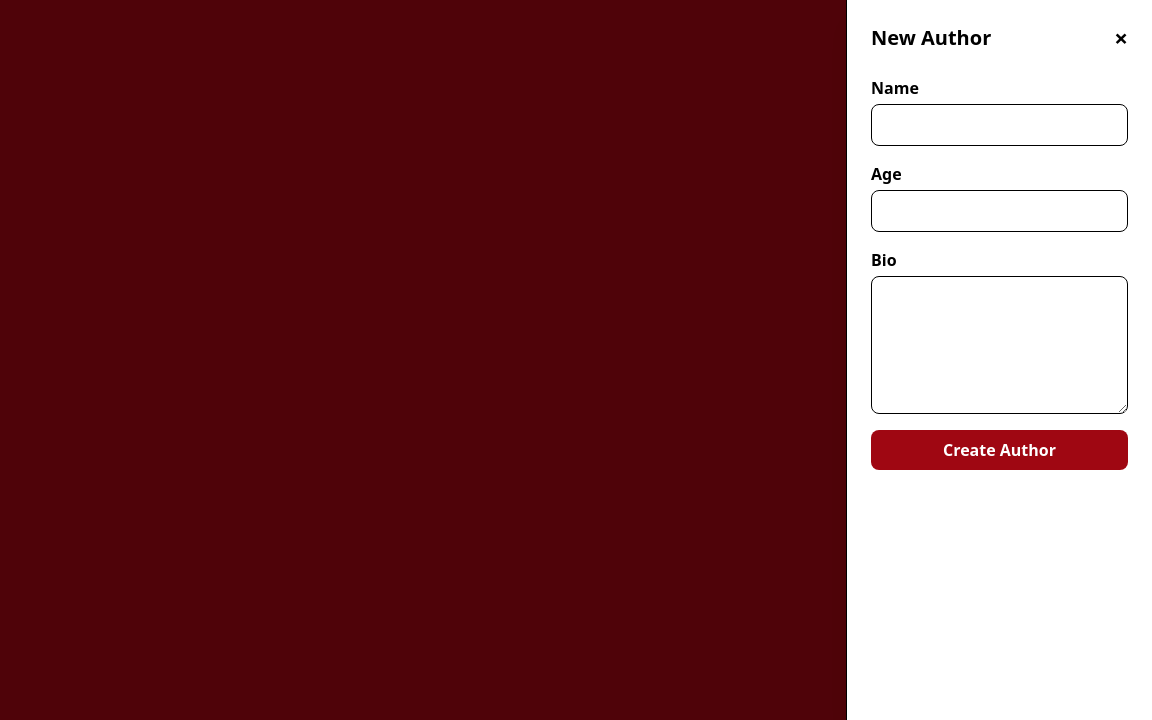
Test: AuthorSlideout › submitting › shows the error and stays open when the action fails
Type "Octavia Butler" into the field labelled "Name" at x=1000, y=125, box [871,104,1128,146]
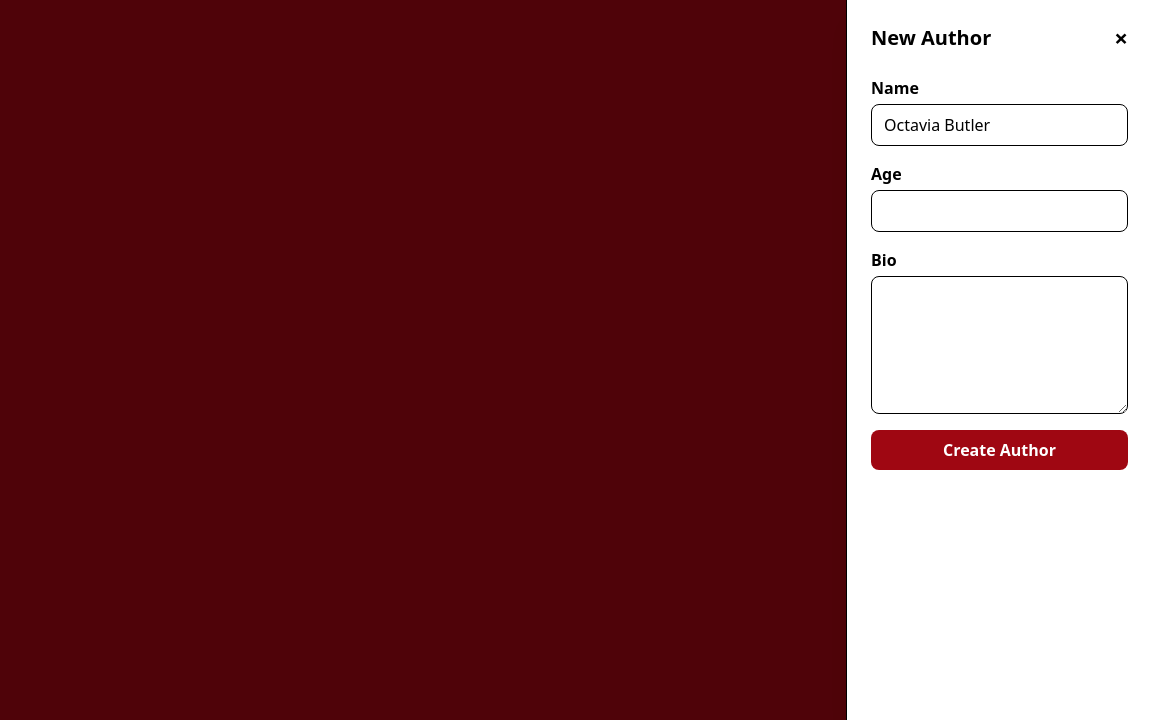
Type "58" into the number field labelled "Age" at x=1000, y=211, box [871,190,1128,232]
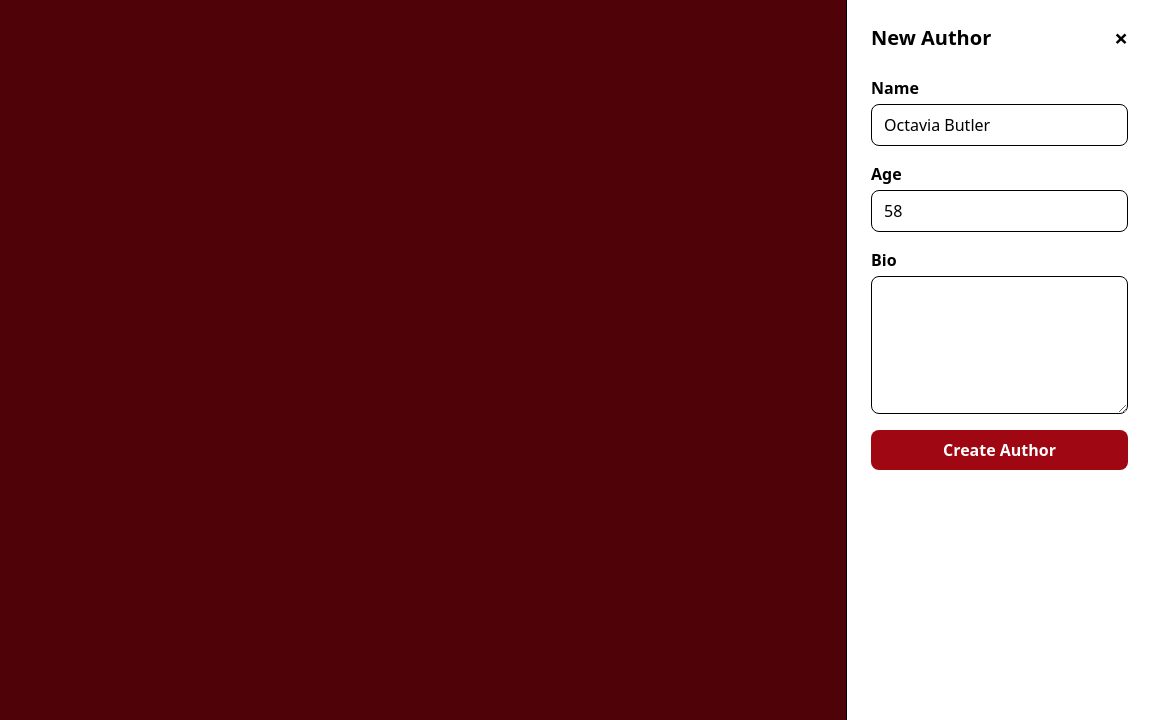
Click the button "Create Author" at x=1000, y=450, box [871,430,1128,470]
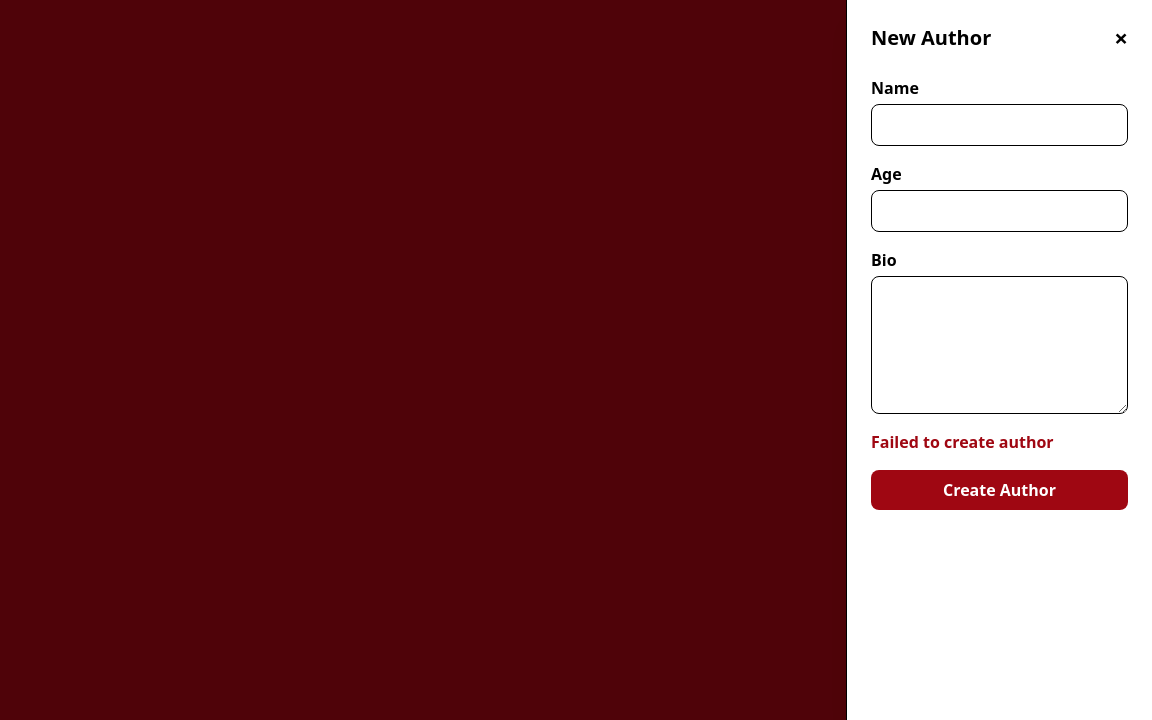
Check: the text "Failed to create author" is shown, box [871,431,1054,453]
